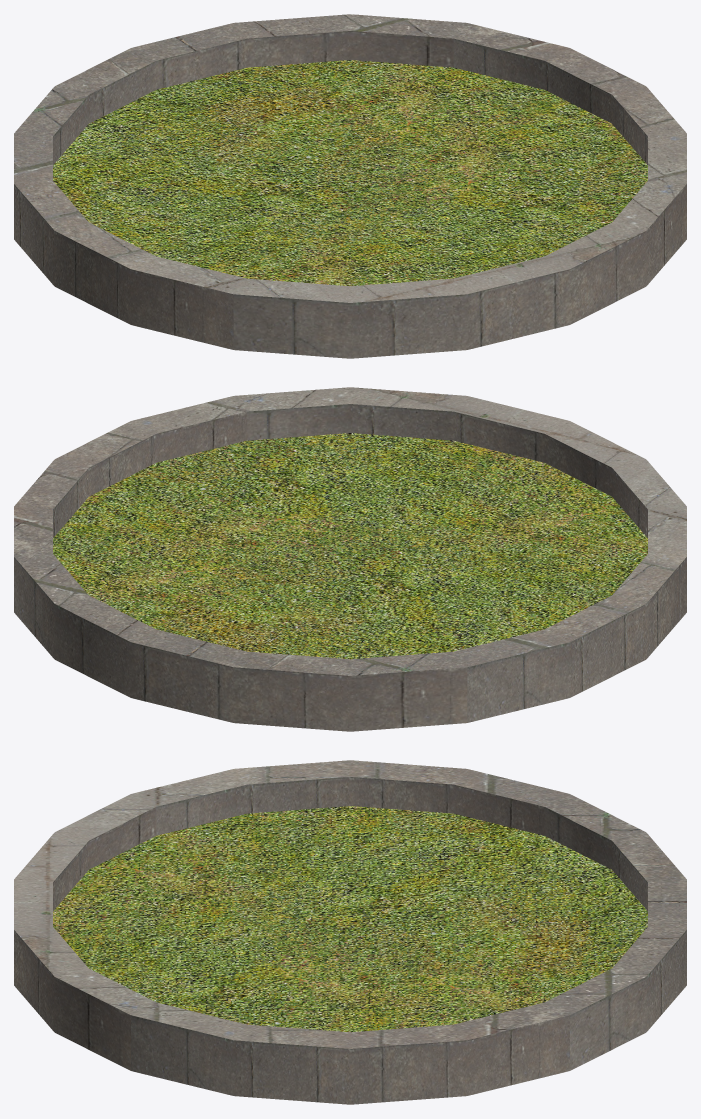
Rendered from TreeStand.fbx.
3 views of the same model, one above another, from view 1: azimuth 30°, elevation 25°; view 2: azimuth 150°, elevation 25°; view 3: azimuth 270°, elevation 25° (orthographic).
Visible parts, largest first — view 1: TreeStand; view 2: TreeStand; view 3: TreeStand.
Boxes of the visible parts, box(x1,y1,x2,y2) form: TreeStand: box(14, 14, 686, 358); TreeStand: box(14, 387, 686, 731); TreeStand: box(14, 760, 686, 1104).
Size of the model in its own units: 166 by 14.99 by 164.
